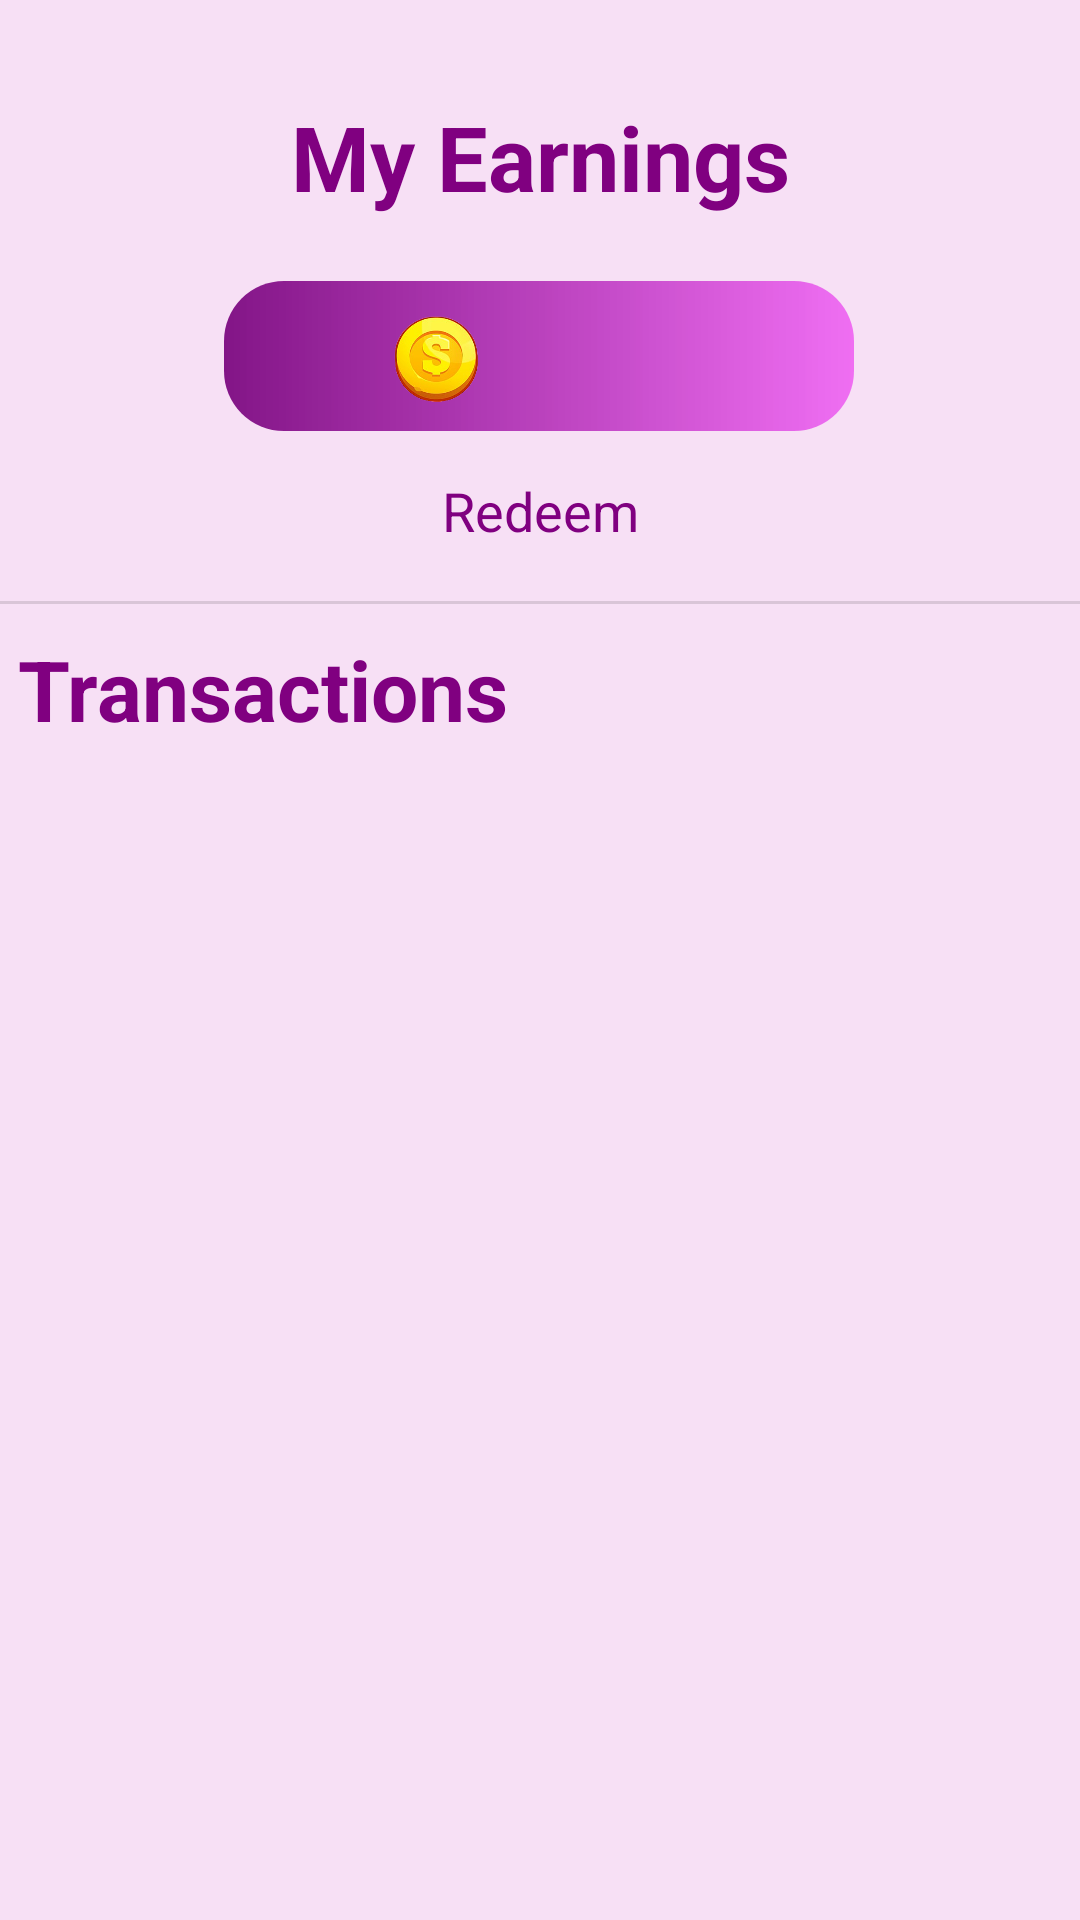

Named icons in this screenshot (1080x1920) and their centers, (x=x, y=y):
coin: (x=436, y=359)
